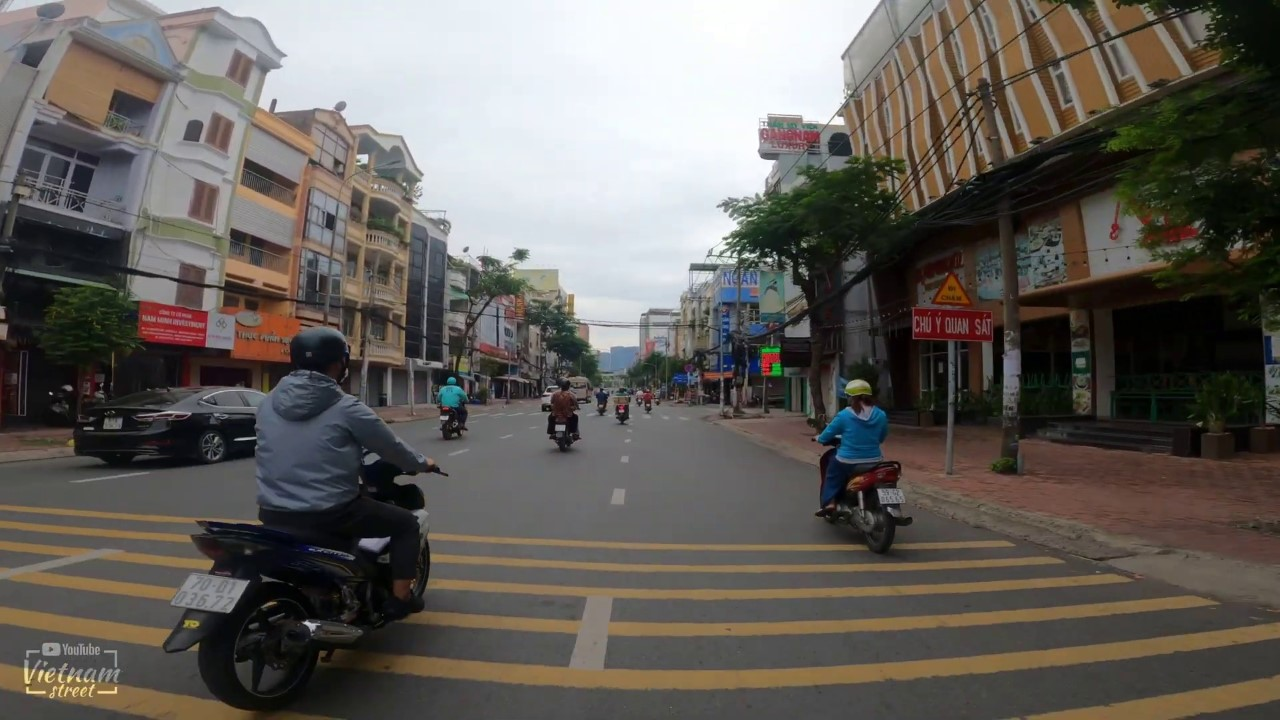di_cham: (931, 270, 973, 308)
